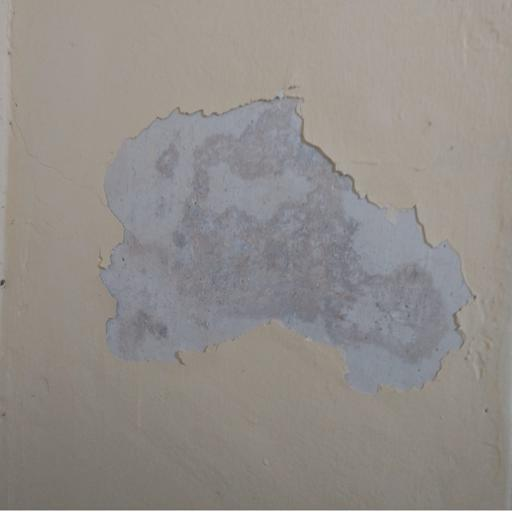peeling: (88, 83, 488, 412)
